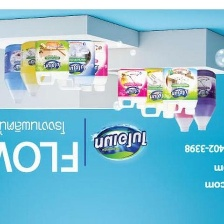cleaning_solution: (66, 40, 110, 92), (55, 38, 97, 92), (137, 65, 179, 119), (185, 67, 218, 132), (161, 64, 200, 117), (168, 76, 201, 134), (2, 43, 32, 105), (34, 37, 71, 87), (18, 39, 47, 98), (114, 66, 150, 110)
